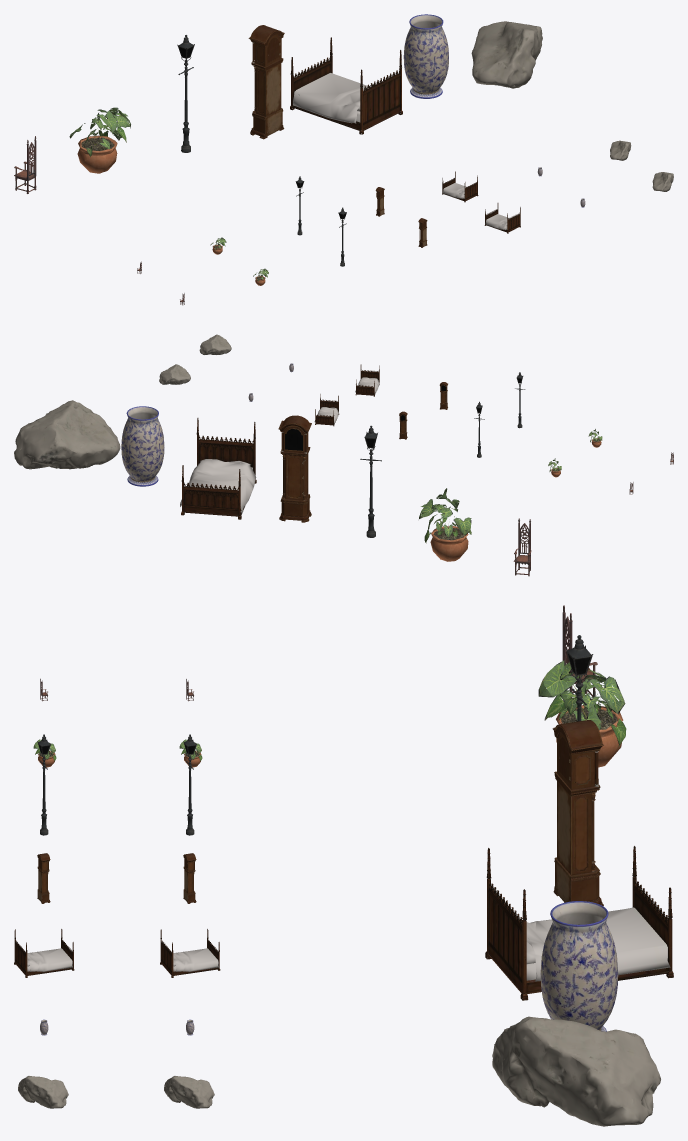
Rendered from asset_gallery.glb.
3 views of the same model, one above another, from view 1: azimuth 30°, elevation 25°; view 2: azimuth 150°, elevation 25°; view 3: azimuth 270°, elevation 25° (orthographic). The views are drawn at different scales.
Parts seen in each view (by area): view 1: GothicBed_01_big, moon_rock_03_big, antique_ceramic_vase_01_big, vintage_grandfather_clock_01_big, potted_plant_02_big, street_lamp_01_big, WoodenChair_01_big, GothicBed_01_raw, GothicBed_01_tint; view 2: moon_rock_03_big, GothicBed_01_big, vintage_grandfather_clock_01_big, antique_ceramic_vase_01_big, potted_plant_02_big, WoodenChair_01_big, street_lamp_01_big, GothicBed_01_raw, GothicBed_01_tint, moon_rock_03_tint, moon_rock_03_raw; view 3: moon_rock_03_big, GothicBed_01_big, antique_ceramic_vase_01_big, vintage_grandfather_clock_01_big, potted_plant_02_big, GothicBed_01_raw, GothicBed_01_tint, moon_rock_03_raw, moon_rock_03_tint, street_lamp_01_big.
Boxes of the visible parts, bbox=[...] form: GothicBed_01_big: bbox=[290, 37, 402, 134]; moon_rock_03_big: bbox=[471, 21, 542, 88]; antique_ceramic_vase_01_big: bbox=[403, 14, 448, 98]; vintage_grandfather_clock_01_big: bbox=[248, 25, 284, 139]; potted_plant_02_big: bbox=[69, 107, 130, 173]; street_lamp_01_big: bbox=[177, 35, 194, 152]; WoodenChair_01_big: bbox=[14, 136, 36, 193]; GothicBed_01_raw: bbox=[484, 203, 520, 233]; GothicBed_01_tint: bbox=[442, 171, 478, 202]; moon_rock_03_big: bbox=[14, 400, 120, 469]; GothicBed_01_big: bbox=[180, 418, 256, 519]; vintage_grandfather_clock_01_big: bbox=[278, 415, 311, 522]; antique_ceramic_vase_01_big: bbox=[121, 406, 164, 486]; potted_plant_02_big: bbox=[419, 488, 471, 561]; WoodenChair_01_big: bbox=[513, 518, 531, 576]; street_lamp_01_big: bbox=[360, 425, 381, 537]; GothicBed_01_raw: bbox=[355, 364, 379, 396]; GothicBed_01_tint: bbox=[314, 394, 339, 426]; moon_rock_03_tint: bbox=[159, 364, 190, 384]; moon_rock_03_raw: bbox=[199, 334, 231, 354]; moon_rock_03_big: bbox=[492, 1016, 660, 1126]; GothicBed_01_big: bbox=[485, 846, 673, 1000]; antique_ceramic_vase_01_big: bbox=[540, 901, 618, 1031]; vintage_grandfather_clock_01_big: bbox=[552, 720, 603, 906]; potted_plant_02_big: bbox=[538, 660, 626, 767]; GothicBed_01_raw: bbox=[14, 929, 74, 977]; GothicBed_01_tint: bbox=[160, 929, 220, 977]; moon_rock_03_raw: bbox=[18, 1076, 68, 1108]; moon_rock_03_tint: bbox=[164, 1076, 214, 1108]; street_lamp_01_big: bbox=[566, 635, 593, 721].
Size of what is drawn, in the model's own units: 43.41 by 9 by 27.13.
Materials: 11 (11 with a texture image).
